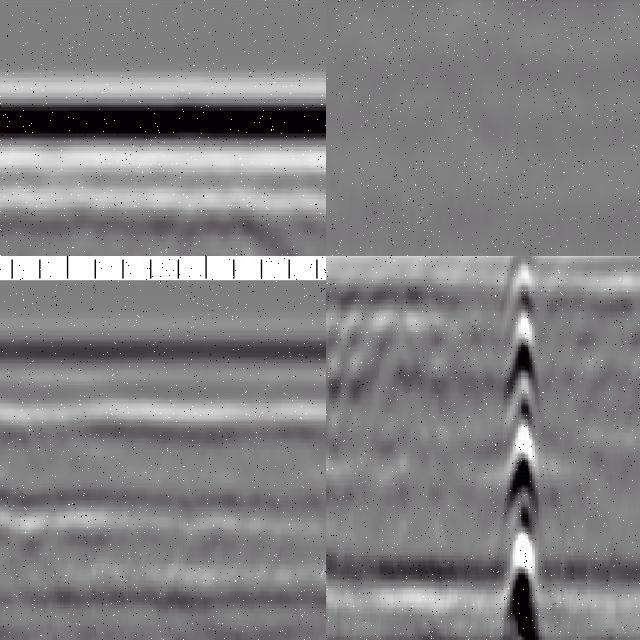crack: (504, 257, 543, 640)
loose: (1, 483, 121, 572)
